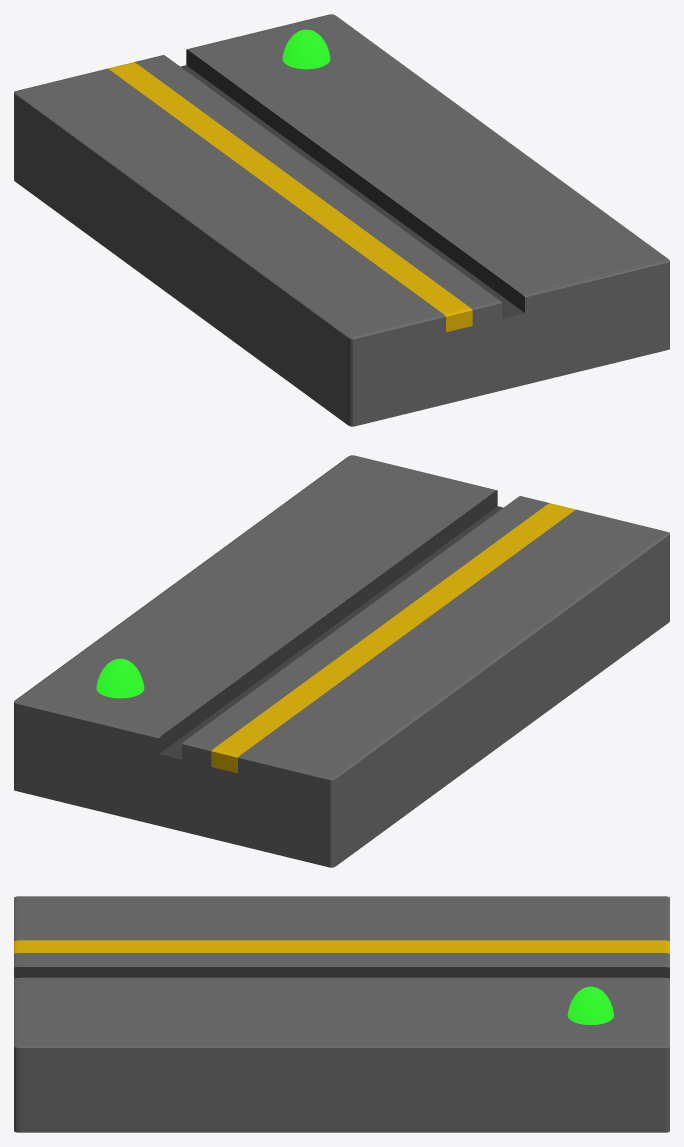
The model's file is YellowKeyCardScannerGL.glb.
3 views of the same model, one above another, from view 1: azimuth 30°, elevation 25°; view 2: azimuth 150°, elevation 25°; view 3: azimuth 270°, elevation 25° (orthographic). The views are drawn at different scales.
Visible parts, largest first — view 1: Base, Light; view 2: Base, Light; view 3: Base, Light.
Boxes of the visible parts, bbox=[...] form: Base: bbox=[14, 14, 669, 426]; Light: bbox=[282, 29, 330, 69]; Base: bbox=[14, 455, 669, 867]; Light: bbox=[96, 658, 144, 698]; Base: bbox=[14, 896, 669, 1132]; Light: bbox=[567, 986, 613, 1024].
Size of the model in its own units: 0.055 by 0.0192 by 0.1006.
